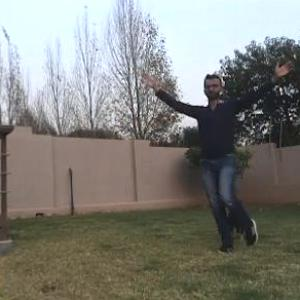takeoff: (173, 76, 297, 249)
